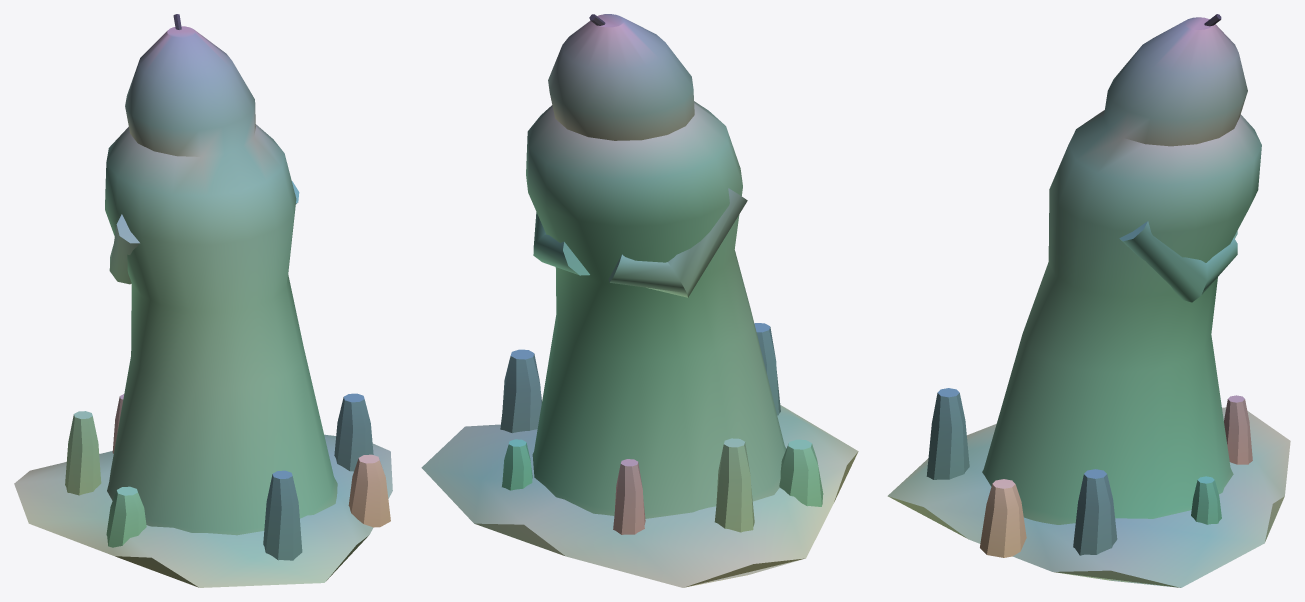
The model's file is wax_husk.glb.
3 renders of one model, left to right at view 1: azimuth 30°, elevation 25°; view 2: azimuth 150°, elevation 25°; view 3: azimuth 270°, elevation 25°, orthographic. The views are drawn at different scales.
Parts seen in each view (by area): view 1: husk, husk_pool, drip.005, drip.003, drip.006, drip, drip.004, husk_arm; view 2: husk, husk_pool, husk_arm, drip.003, drip, drip.004, drip.002, husk_arm.001, drip.001, drip.005; view 3: husk, husk_pool, husk_arm.001, drip.005, drip, drip.006, drip.002, drip.001.
Part boxes in pixels (<box>): husk: <box>105,26,337,535</box>; husk_pool: <box>14,434,392,587</box>; drip.005: <box>263,470,302,560</box>; drip.003: <box>65,411,101,495</box>; drip.006: <box>348,454,390,527</box>; drip: <box>334,393,373,471</box>; drip.004: <box>106,486,146,547</box>; husk_arm: <box>109,214,140,284</box>; husk: <box>526,14,786,518</box>; husk_pool: <box>421,405,858,587</box>; husk_arm: <box>608,188,747,297</box>; drip.003: <box>714,438,754,532</box>; drip: <box>500,349,541,433</box>; drip.004: <box>779,439,823,506</box>; drip.002: <box>613,459,645,534</box>; husk_arm.001: <box>533,212,589,275</box>; drip.001: <box>502,439,532,490</box>; drip.005: <box>754,323,780,415</box>; husk: <box>982,17,1261,524</box>; husk_pool: <box>887,407,1290,587</box>; husk_arm.001: <box>1119,221,1237,302</box>; drip.005: <box>926,388,969,479</box>; drip: <box>1073,469,1117,555</box>; drip.006: <box>980,479,1026,557</box>; drip.002: <box>1224,395,1252,464</box>; drip.001: <box>1191,476,1221,524</box>.
Bounding box in the file's own units: 0.9208 × 1.19 × 0.8927.
